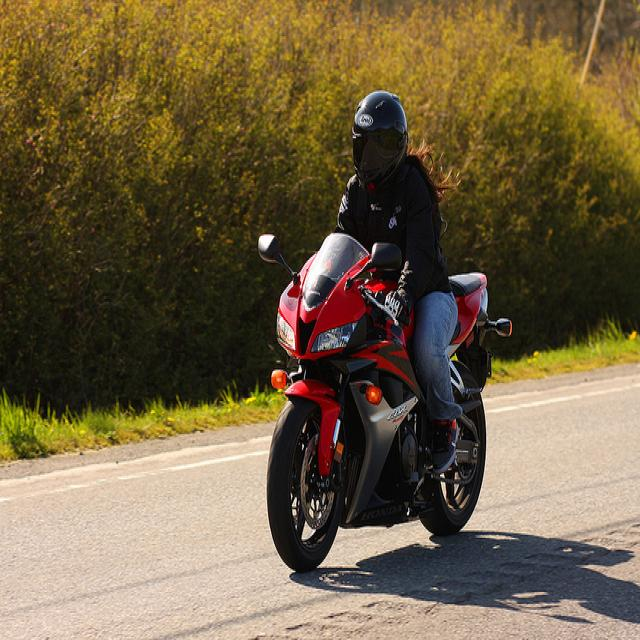motor: (260, 224, 518, 571)
